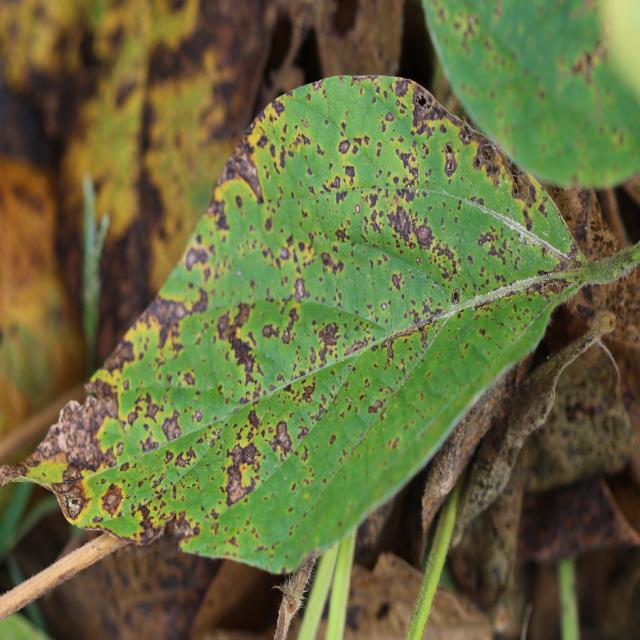Bacterial_Blight: (131, 294, 194, 357), (221, 148, 264, 203), (471, 136, 507, 183), (519, 275, 575, 300), (228, 334, 258, 378), (103, 336, 137, 374), (97, 417, 128, 454), (169, 511, 199, 544), (364, 385, 389, 424), (410, 93, 433, 135), (316, 322, 340, 359), (100, 482, 125, 517), (394, 147, 420, 180), (271, 419, 294, 456), (57, 399, 83, 431), (280, 307, 301, 345), (388, 267, 409, 303), (412, 221, 435, 251), (185, 245, 209, 271), (320, 250, 343, 276), (225, 464, 244, 495), (239, 442, 260, 466), (174, 448, 197, 469), (144, 400, 161, 422), (477, 230, 496, 248), (247, 409, 262, 430), (384, 338, 395, 366), (261, 323, 279, 340), (293, 278, 306, 299), (344, 164, 356, 183), (337, 139, 351, 155), (419, 327, 429, 349), (460, 125, 472, 142), (164, 449, 175, 465), (192, 408, 203, 423), (451, 289, 460, 304), (444, 142, 454, 155), (92, 515, 104, 524), (279, 247, 288, 259), (474, 157, 482, 169), (71, 497, 79, 507), (447, 161, 454, 171), (355, 204, 361, 214), (381, 301, 387, 310)
Soybean: (12, 75, 640, 579)
